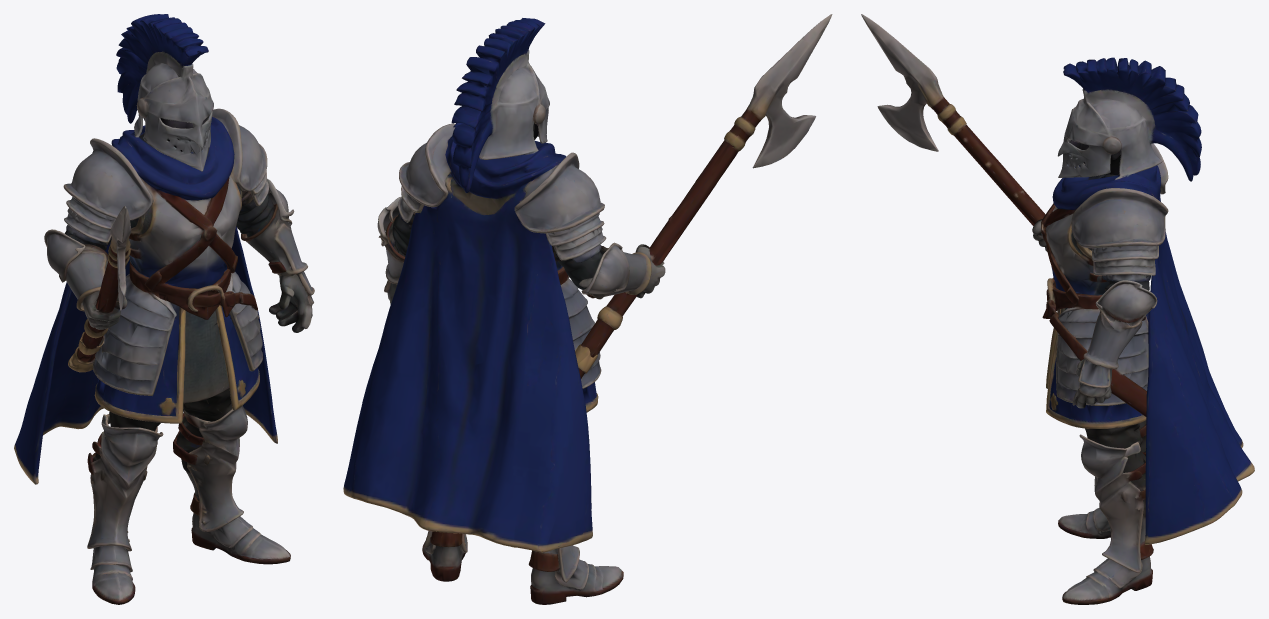
File: detail_10.glb
3 views of the same model, side by side, from view 1: azimuth 30°, elevation 25°; view 2: azimuth 150°, elevation 25°; view 3: azimuth 270°, elevation 25° (orthographic). The views are drawn at different scales.
Bounding box in the file's own units: 0.6056 × 0.9991 × 0.7115.
Materials: 1 (1 with a texture image).
